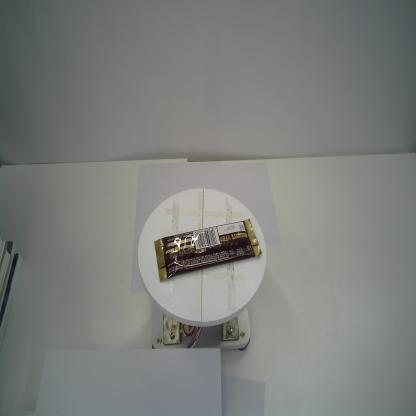Chocolate: (152, 217, 263, 284)
